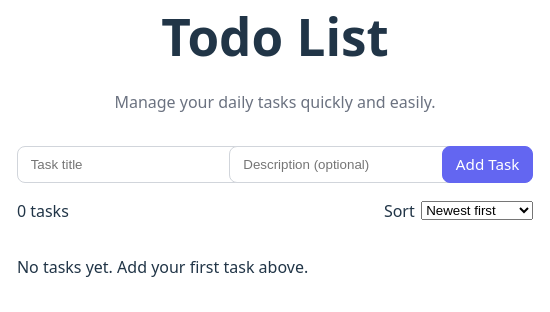
Test: M3: Delete Task - removes after confirmation
This screenshot has width=550, height=312.
Type "Task to delete" into the field with placeholder "Task title" at [133, 164], box [17,146,249,183]
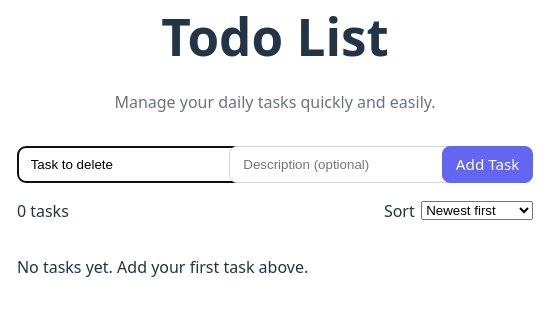
Click the button "Add Task" at [488, 164], box [442,146,533,183]
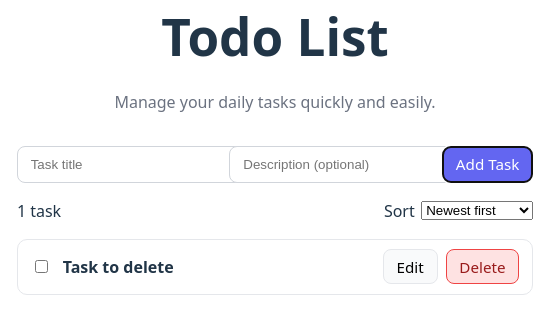
Click the button with aria-label "delete task" at [482, 267], box [446,249,519,284]
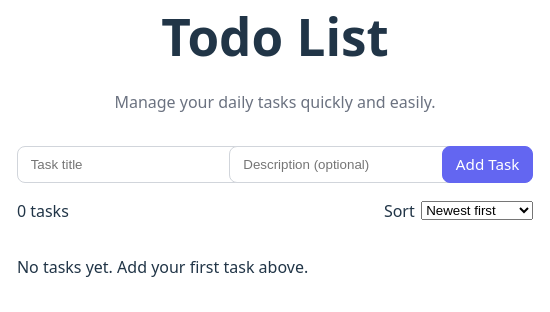
Expected: the text "Task to delete" is gone
